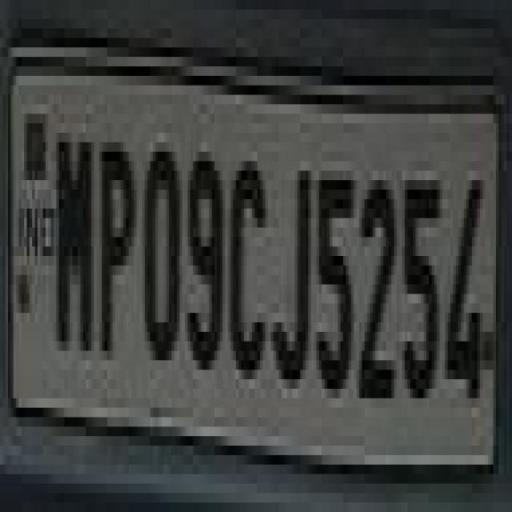number plate: (30, 38, 504, 493)
